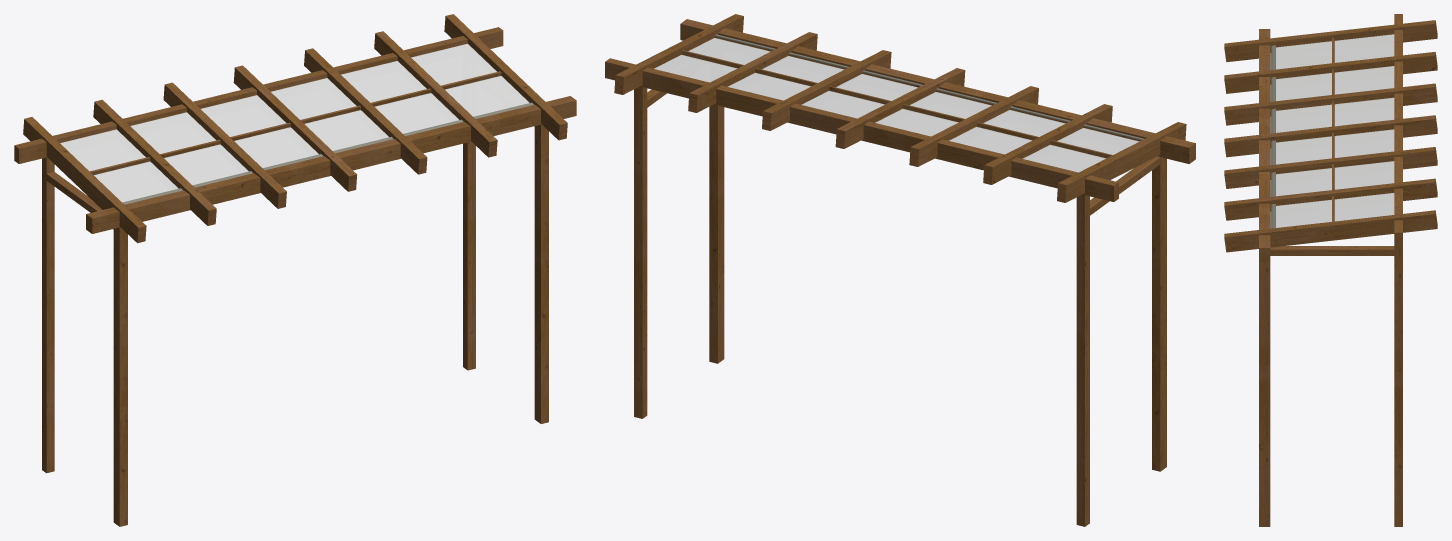
File: 3900-1250_naturalpine.fbx
The picture shows the model from 3 angles, left to right: view 1: azimuth 30°, elevation 25°; view 2: azimuth 150°, elevation 25°; view 3: azimuth 270°, elevation 25°; orthographic projection. The views are drawn at different scales.
Parts seen in each view (by area): view 1: 3900-1250_naturalpine; view 2: 3900-1250_naturalpine; view 3: 3900-1250_naturalpine.
Boxes of the visible parts, box(x1,y1,x2,y2) form: 3900-1250_naturalpine: box(14, 14, 576, 526); 3900-1250_naturalpine: box(605, 14, 1195, 526); 3900-1250_naturalpine: box(1224, 14, 1437, 526).
Size of the model in its own units: 448 by 299 by 185.
3 materials, 2 textured.
